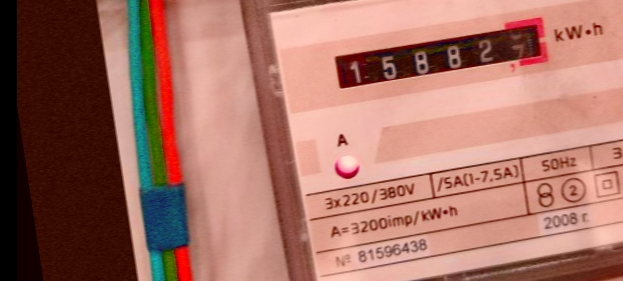1: (350, 58, 368, 88)
2: (479, 38, 499, 68)
5: (381, 54, 403, 83)
7: (512, 43, 531, 62)
8: (414, 49, 434, 79), (448, 44, 467, 73)
screen: (322, 10, 564, 106)
